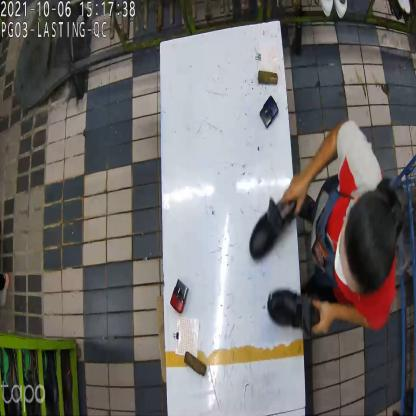shoes: (250, 198, 324, 336)
stamp: (258, 95, 278, 129), (170, 280, 190, 314)
